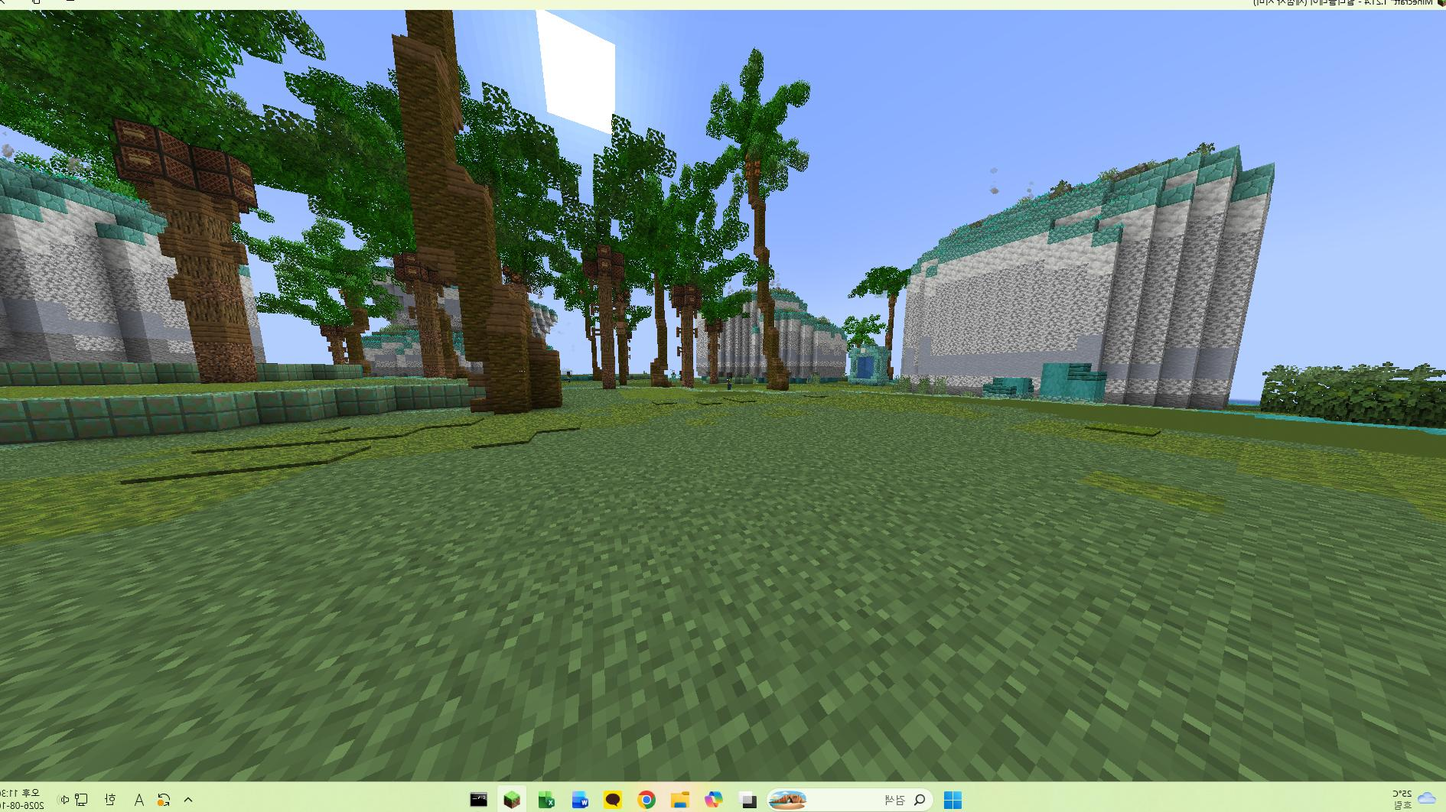Guardian: (725, 372, 734, 389)
